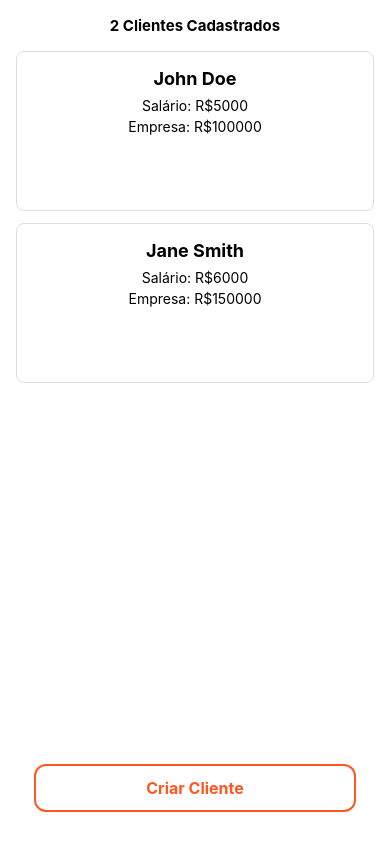
ClientListScreen Component › opens and closes create client modal
# Open modal
Click the text "Criar Cliente".
click(195, 788)  # box [146,778,244,798]
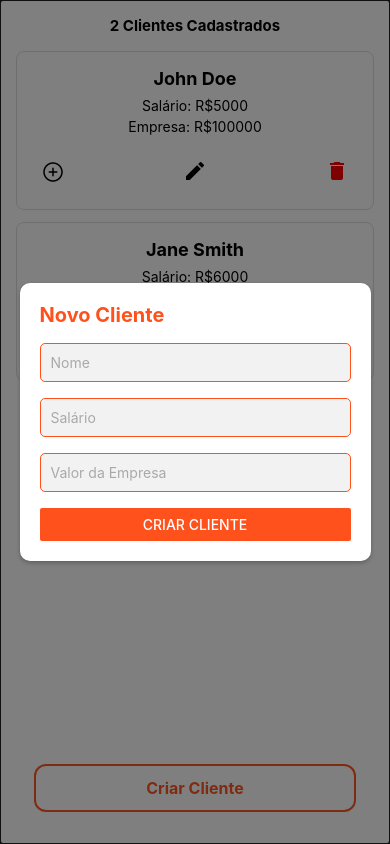
Now the field with placeholder "Nome" is shown, box [40,343,350,382]
Now the field with placeholder "Salário" is shown, box [40,398,350,437]
Now the field with placeholder "Valor da Empresa" is shown, box [40,453,350,492]
